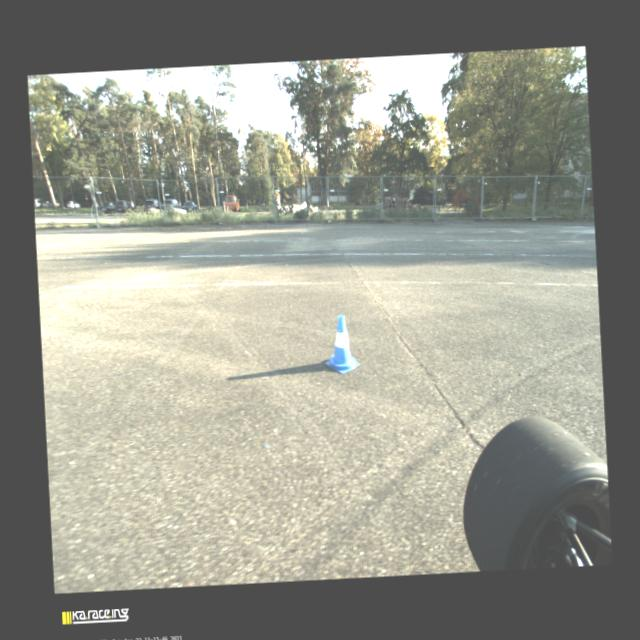blue_cone: (322, 313, 362, 375)
